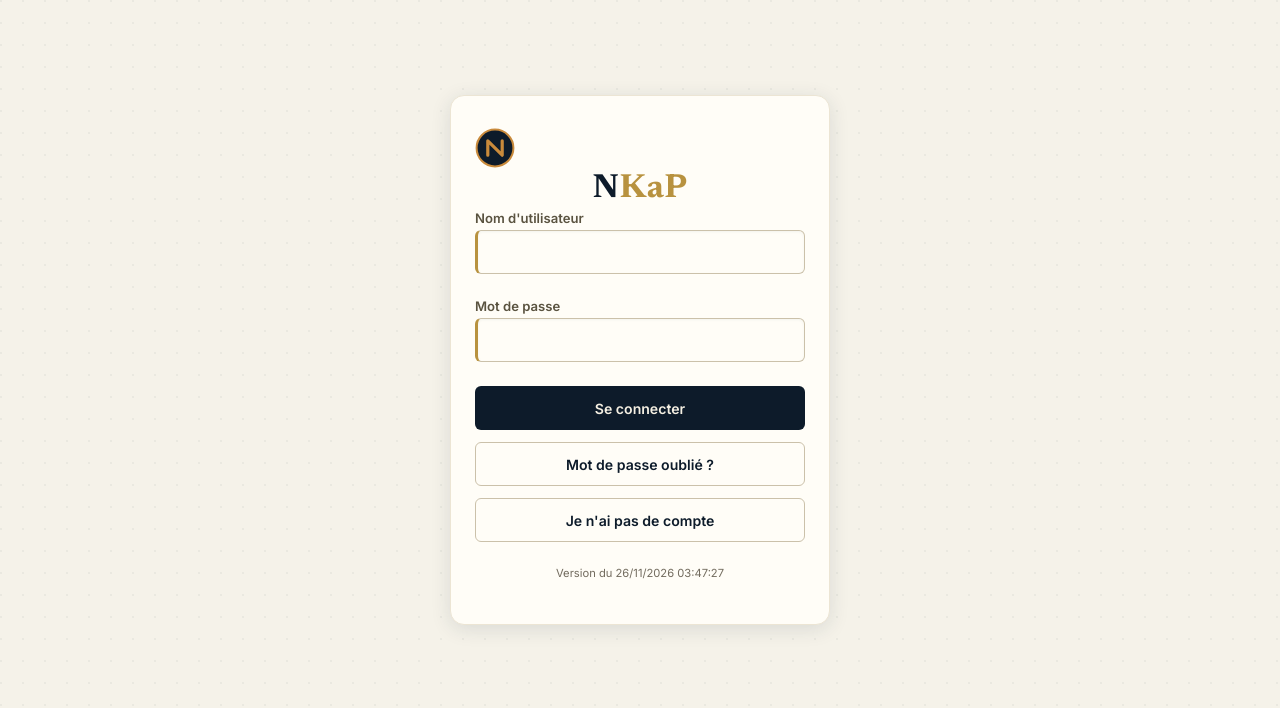
Test: LoginScreen › shows an error for an incorrect recovery code
The width and height of the screenshot is (1280, 708).
Click the button "Mot de passe oublié ?" at (640, 464), box 475,442 -> 805,486
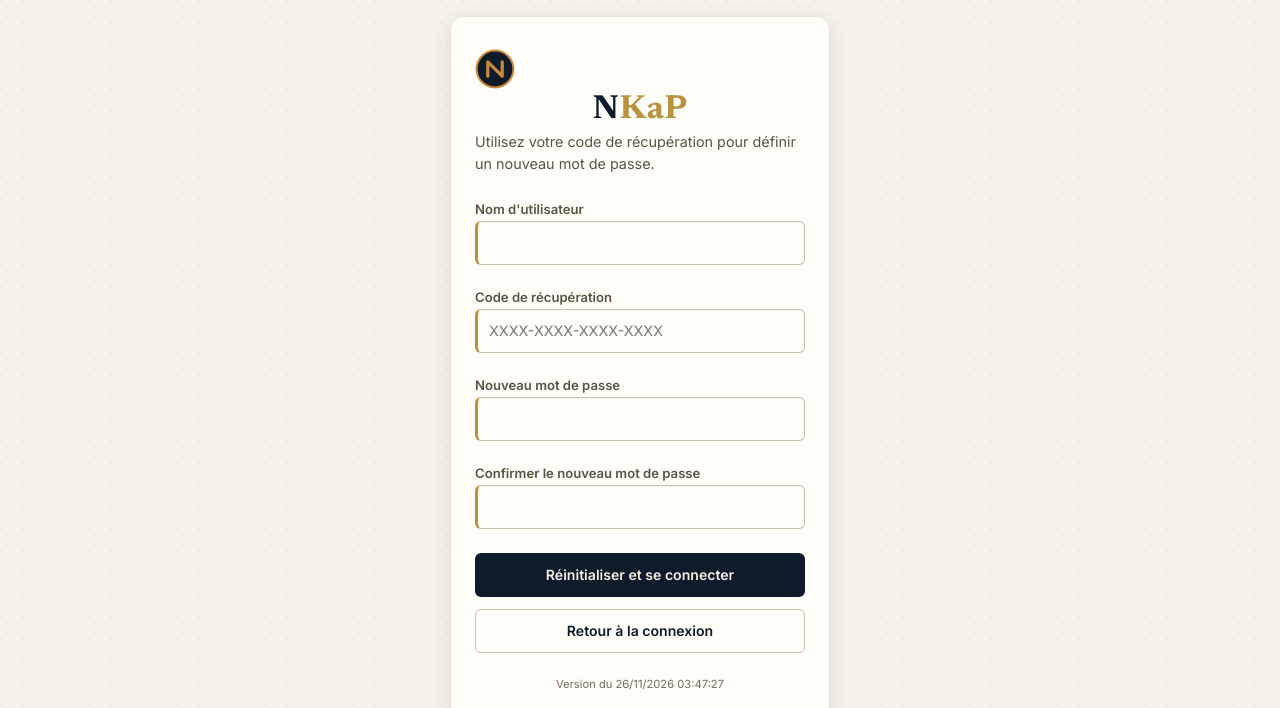
Type "peter" into the field labelled "Nom d'utilisateur" at (640, 243), box 475,221 -> 805,265
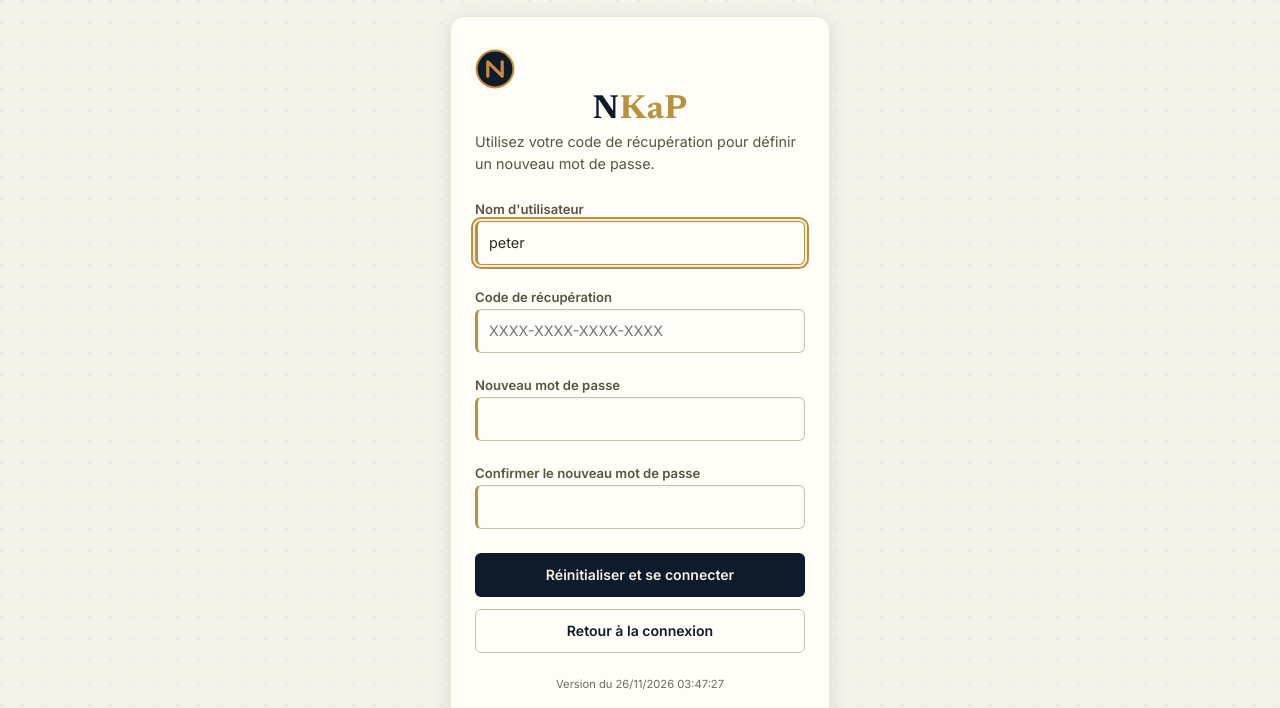
Type "WRONG-0000-0000-0000" into the field labelled "Code de récupération" at (640, 331), box 475,309 -> 805,353
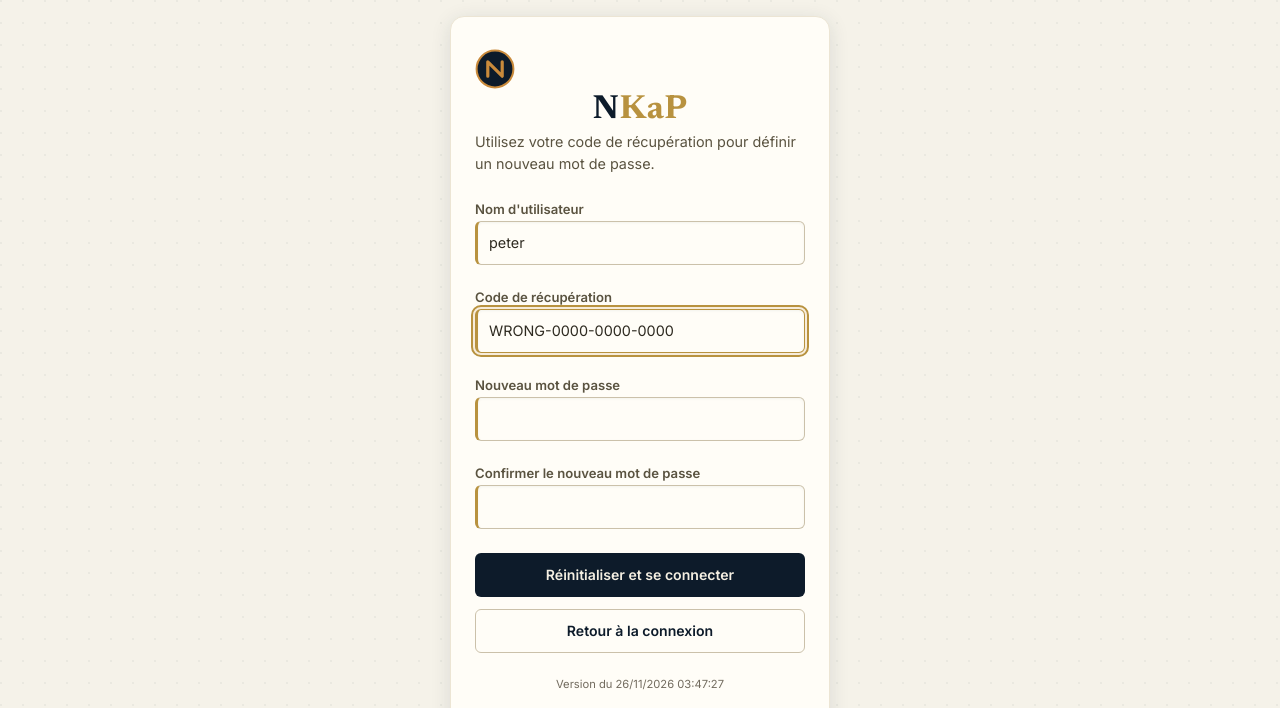
Type "brand-new-password" into the password field labelled "Nouveau mot de passe" at (640, 419), box 475,397 -> 805,441
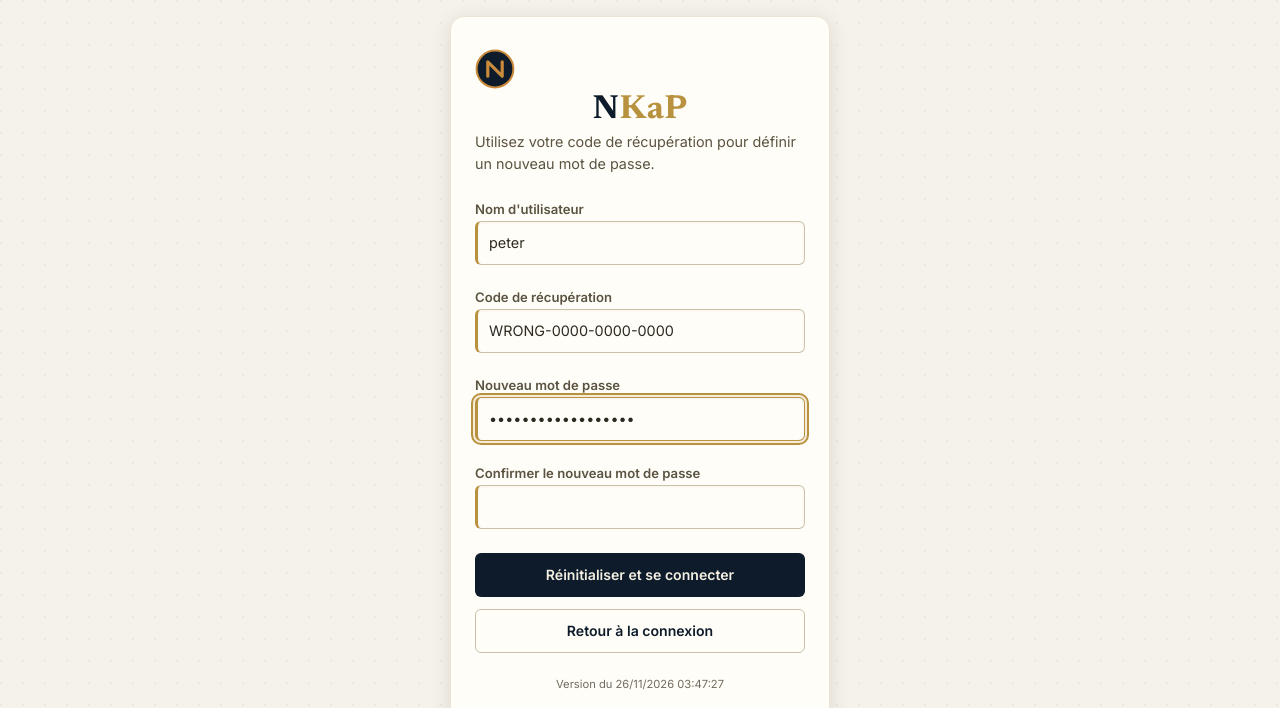
Type "brand-new-password" into the password field labelled "Confirmer le nouveau mot de passe" at (640, 507), box 475,485 -> 805,529
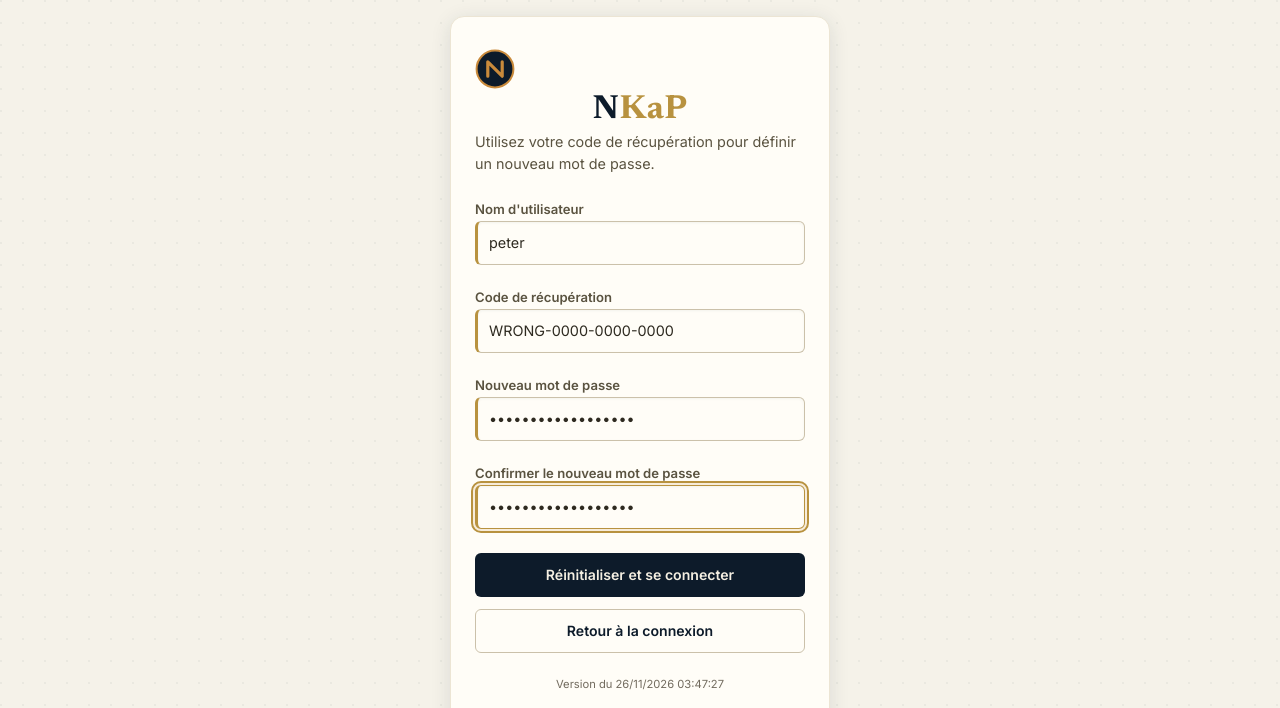
Click the button "Réinitialiser et se connecter" at (640, 575), box 475,553 -> 805,597
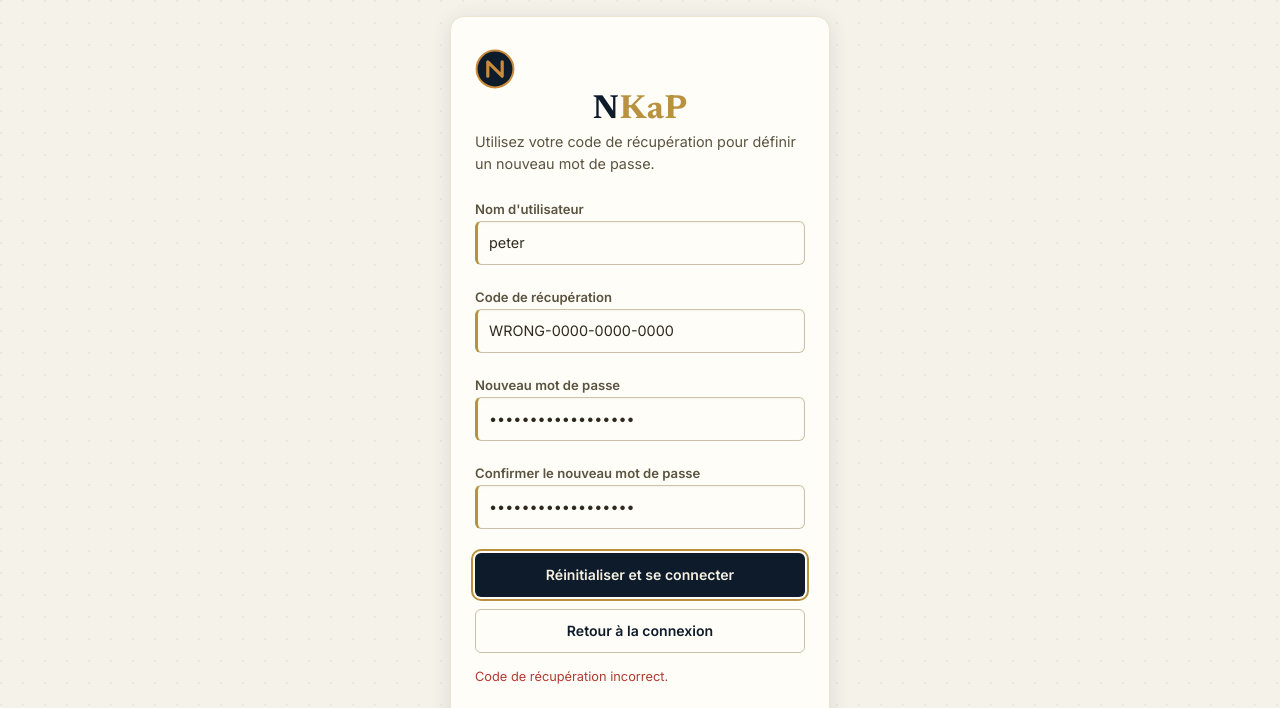
Now the message shows "incorrect", box 475,669 -> 668,684
